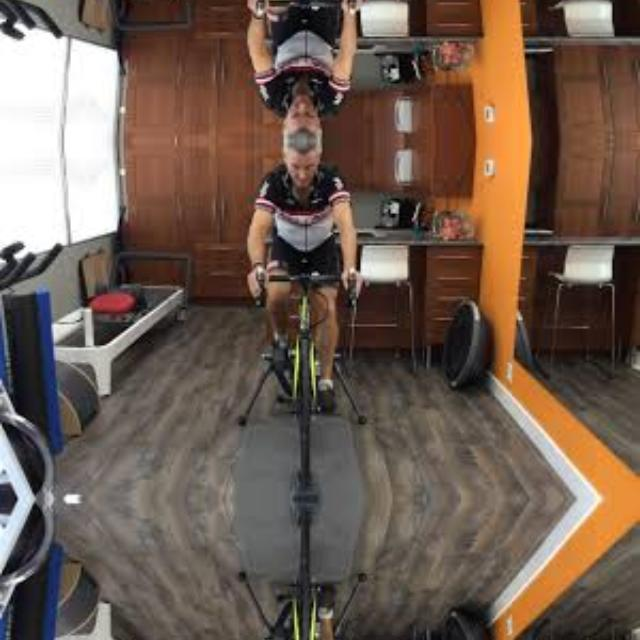obstacle: (250, 266, 360, 480), (249, 517, 360, 640), (249, 0, 360, 14)
